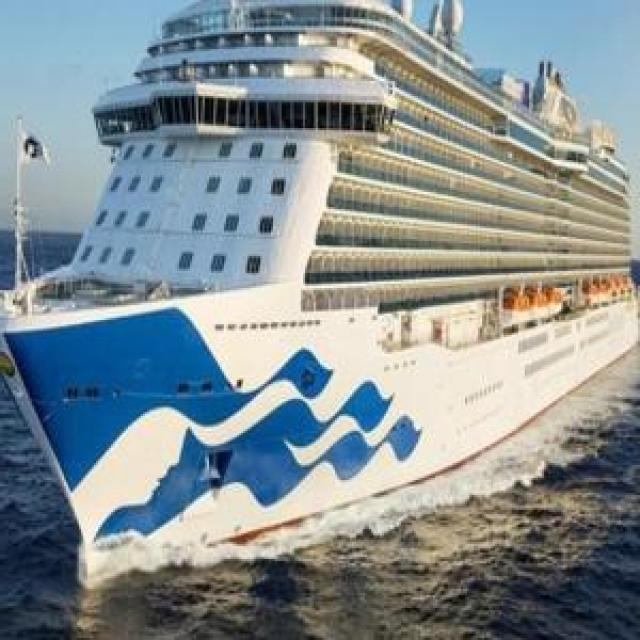passenger ship: (0, 0, 637, 585)
